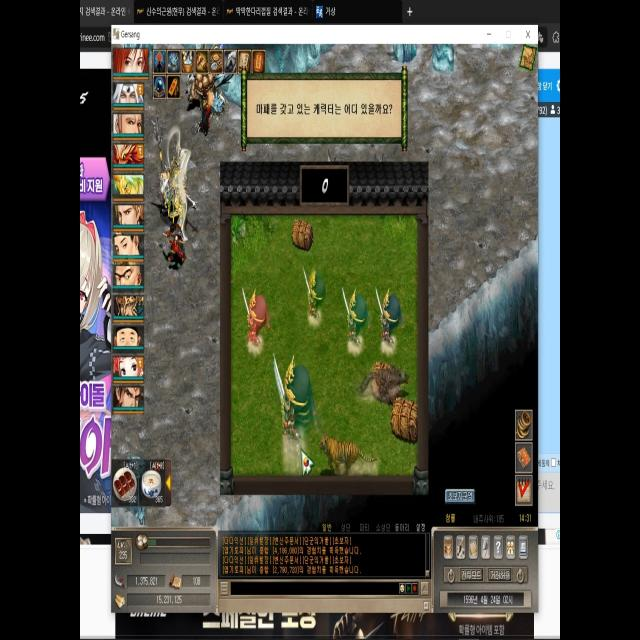character_brown: (272, 353, 318, 471), (241, 284, 271, 361), (375, 286, 405, 358), (343, 287, 368, 357), (302, 266, 327, 329)
